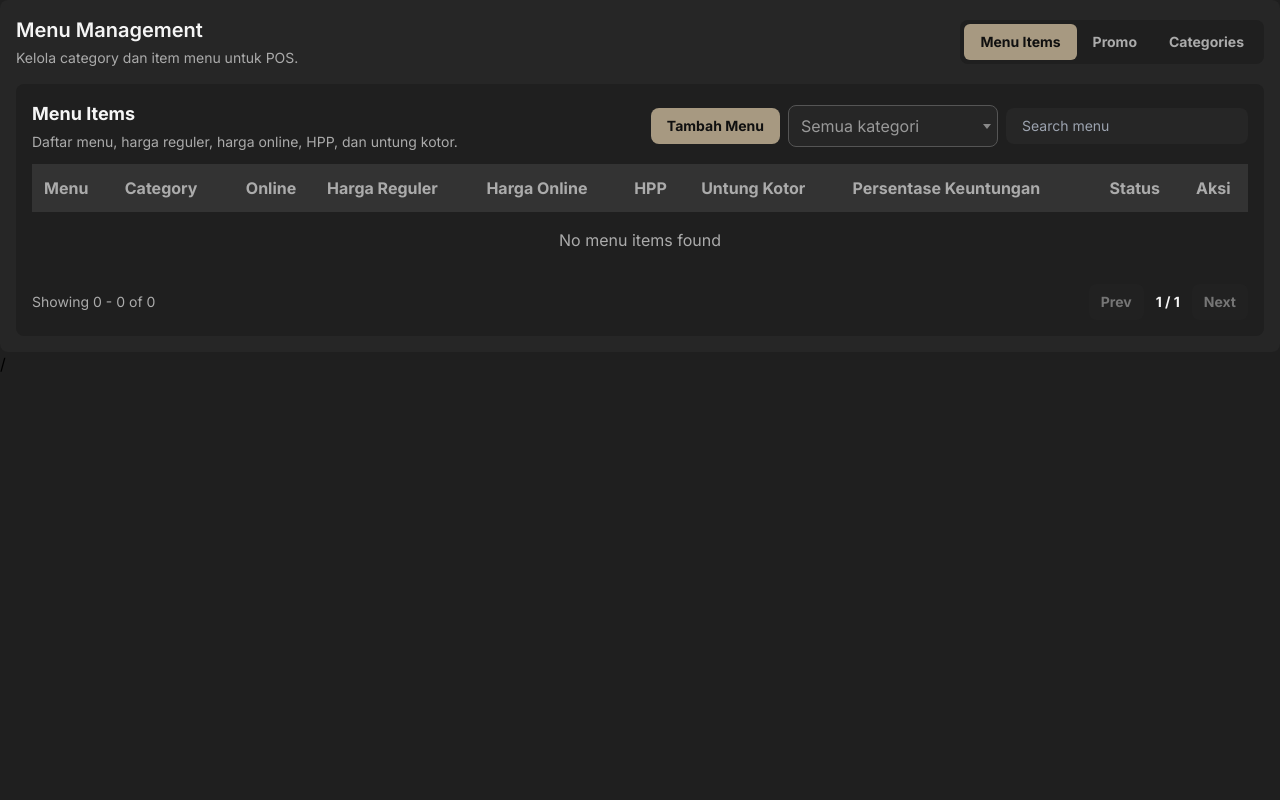
Test case: menu delete › asks before deleting a menu
Step 1. Click the button "Menu Items" → [1020, 42], box left=964, top=24, right=1077, bottom=60
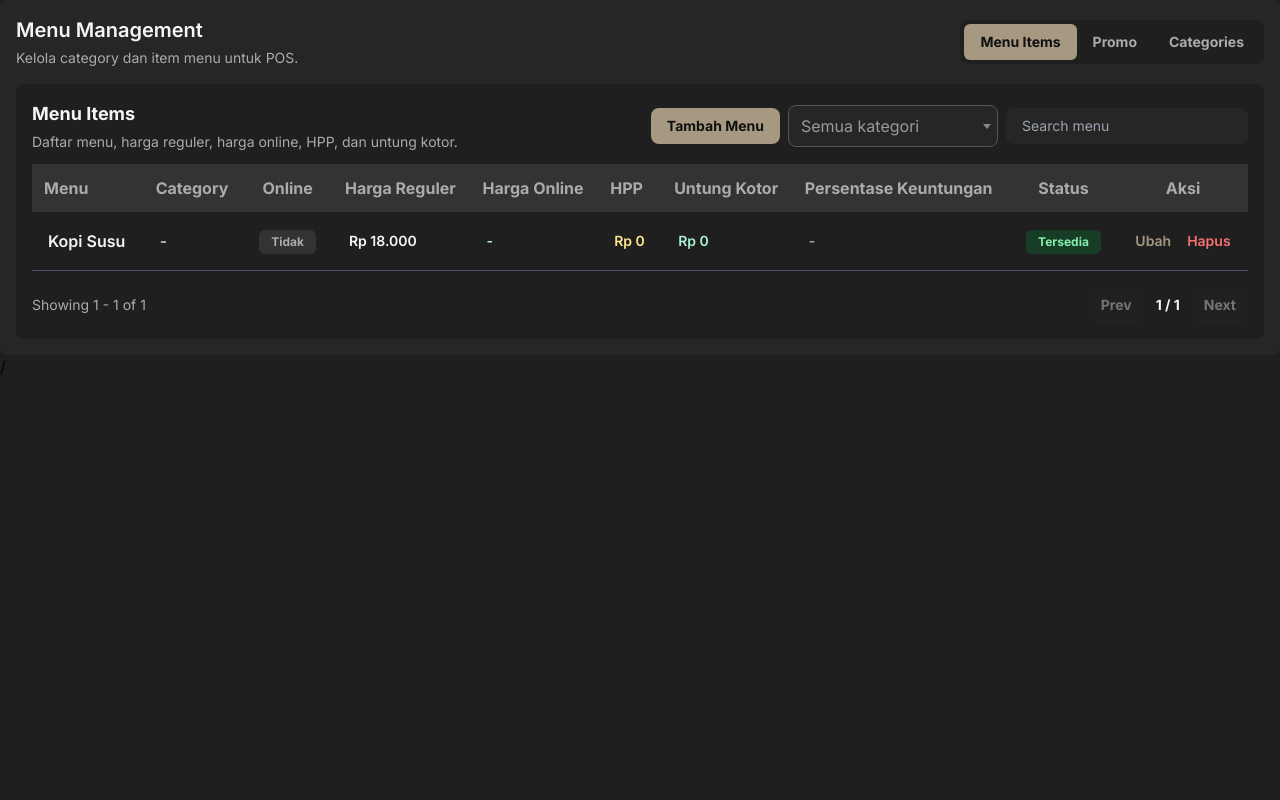
Step 2. Click the button "Hapus" → [1209, 241], box left=1187, top=231, right=1231, bottom=251
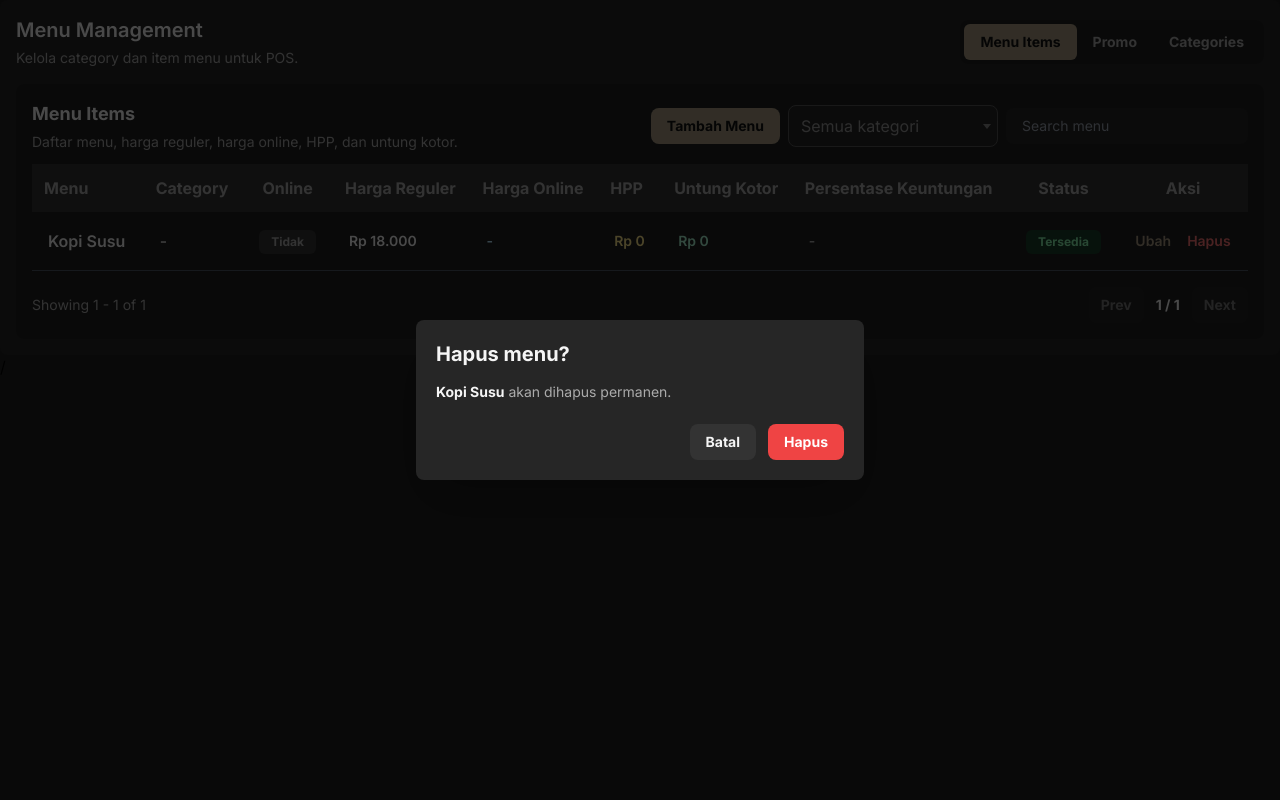
Expected: the dialog "Hapus menu?" shows "Kopi Susu akan dihapus permanen.", left=416, top=320, right=864, bottom=480
Step 3. Click the button "Batal" → [723, 442], box left=690, top=424, right=756, bottom=460
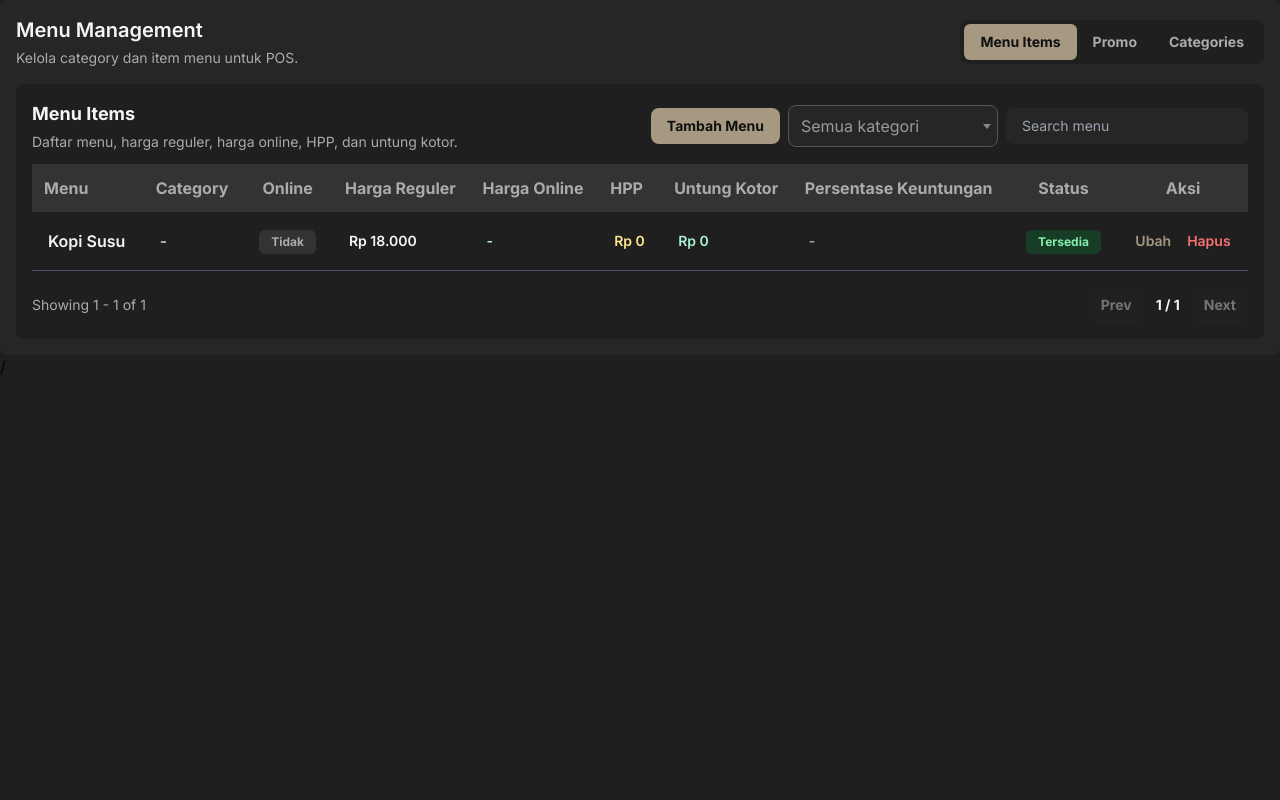
Expected: the dialog is gone
Step 4. Click the button "Hapus" → [1209, 241], box left=1187, top=231, right=1231, bottom=251
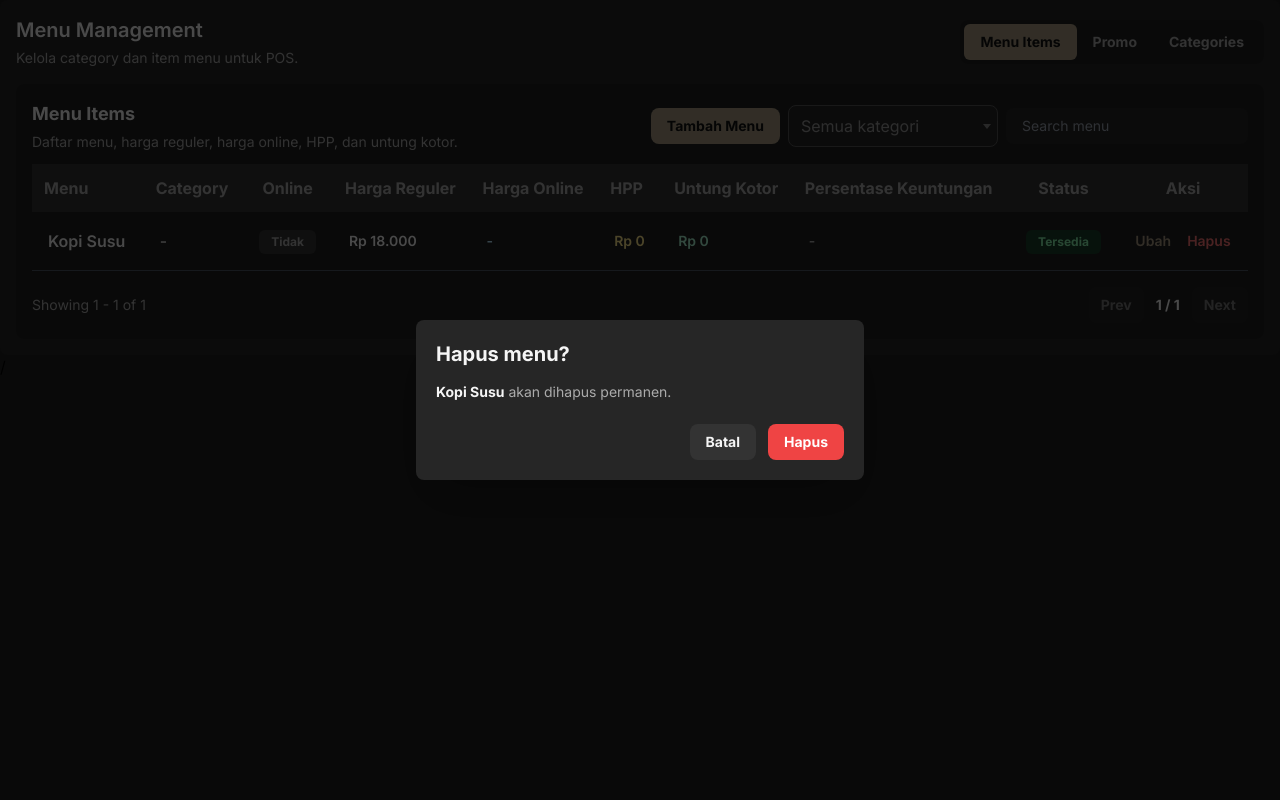
Step 5. Click the button "Hapus" → [806, 442], box left=768, top=424, right=844, bottom=460
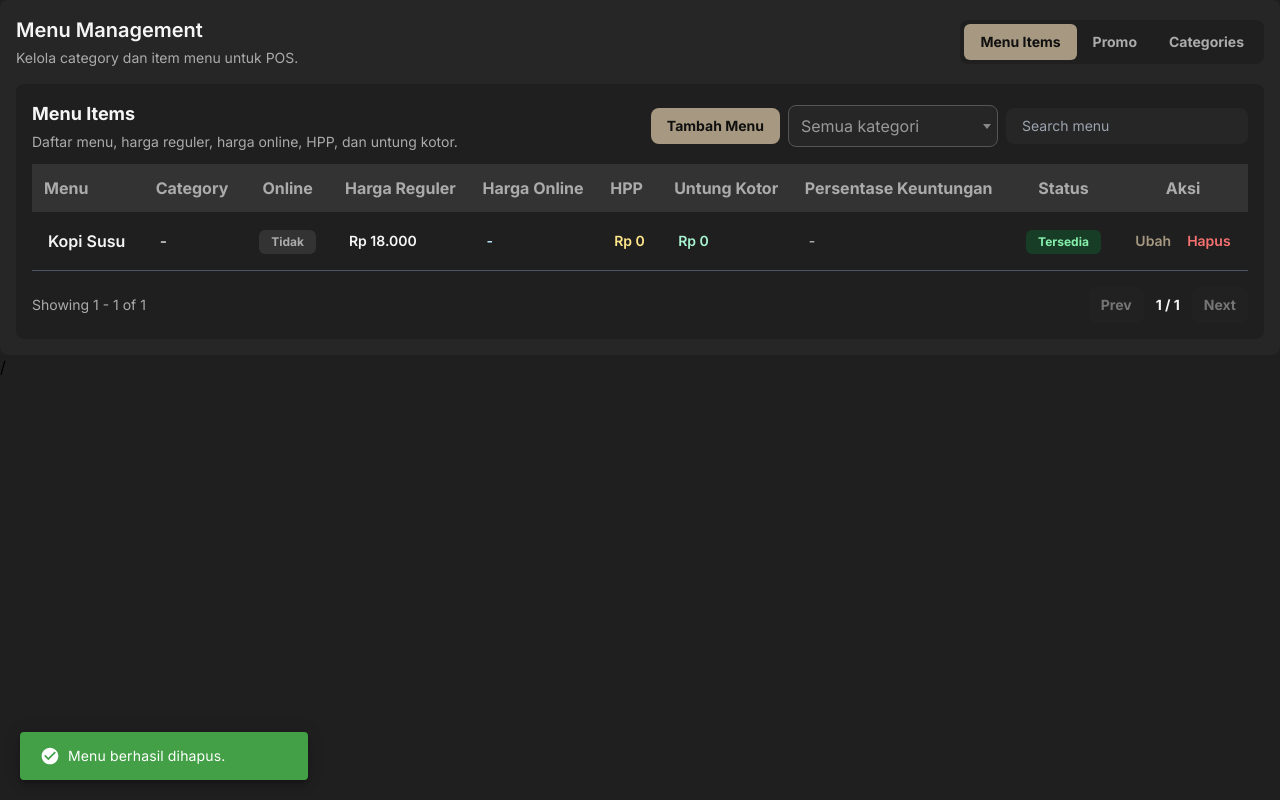
Expected: the dialog is gone
